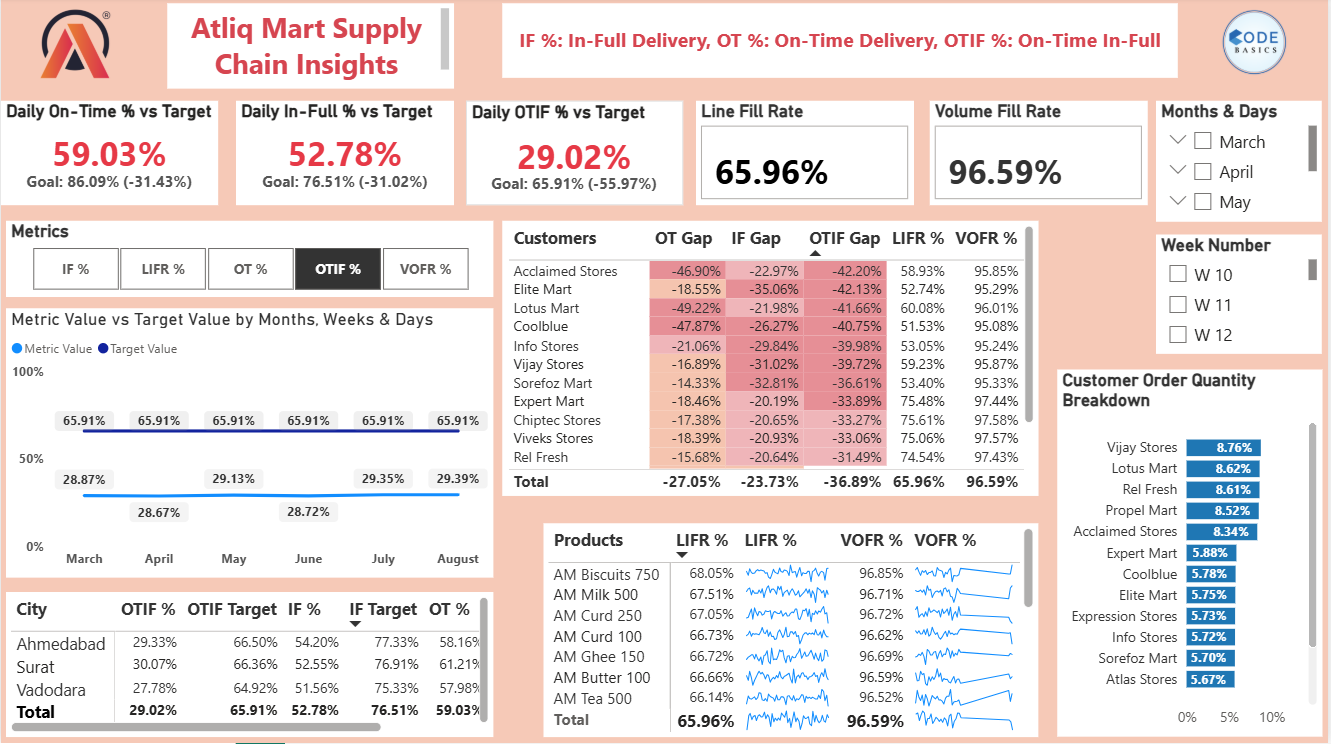

The page's visual inventory and layout, read from the dashboard file:
{"tool":"powerbi","page":{"name":"Atliq Mart FMCG Suppy Chain Report","canvas":[1280,720],"ordinal":0},"visuals":[{"type":"kpi","title":"Daily On-Time % vs Target","fields":{"Indicator":["All Measures.OT%"],"Goal":["All Measures.OT Target"],"TrendLine":["dim_date.mmm_yy.Variation.Date Hierarchy.Year"]},"box":[0,99.6,209.2,101],"z":0},{"type":"kpi","title":"Daily In-Full % vs Target","fields":{"Indicator":["All Measures.IF %"],"Goal":["All Measures.IF Target"],"TrendLine":["dim_date.date.Variation.Date Hierarchy.Year"]},"box":[226.5,99.6,210.6,101],"z":1000},{"type":"kpi","title":"Daily OTIF % vs Target","fields":{"Goal":["All Measures.OTIF Target"],"Indicator":["All Measures.OTIF %"],"TrendLine":["dim_date.date.Variation.Date Hierarchy.Year"]},"box":[448.7,99.6,209.2,101],"z":2000},{"type":"pivotTable","fields":{"Rows":["dim_customers.city"],"Values":["All Measures.OTIF %","All Measures.OTIF Target","All Measures.IF %","All Measures.IF Target","All Measures.OT%","All Measures.OT Target"]},"box":[4.8,574.3,470.5,139.9],"z":3000},{"type":"tableEx","fields":{"Values":["dim_customers.customer_name","All Measures.OT Gap","All Measures.IF Gap","All Measures.OTIF Gap","All Measures.LIFR %","All Measures.VOFR %"]},"box":[483.3,216.4,518,265.5],"z":4000},{"type":"cardVisual","title":"Line Fill Rate","fields":{"Data":["All Measures.LIFR %"]},"box":[670.9,99.6,210.6,101],"z":5000},{"type":"cardVisual","title":"Volume Fill Rate","fields":{"Data":["All Measures.VOFR %"]},"box":[896,99.6,210.6,101],"z":6000},{"type":"pivotTable","fields":{"Values":["All Measures.LIFR %","SparklineData(All Measures.LIFR %_[dim_date.date])","All Measures.VOFR %","SparklineData(All Measures.VOFR %_[dim_date.date.Variation.Date Hierarchy.Day])"],"Rows":["dim_products.product_name"]},"box":[523.7,507.9,477.6,206.3],"z":7000},{"type":"slicer","title":"Metrics","fields":{"Values":["MetricSelector.MetricName"]},"box":[4.3,216.4,470.3,73.6],"z":8000},{"type":"lineChart","title":"Metric Value vs Target Value by Months, Weeks & Days","fields":{"Y":["MetricSelector.SelectedMetricValue","MetricSelector.SelectedTargetValue"],"Category":["dim_date.date.Variation.Date Hierarchy.Year","dim_date.date.Variation.Date Hierarchy.Quarter","dim_date.date.Variation.Date Hierarchy.Month","dim_date.date.Variation.Date Hierarchy.Day"]},"box":[4.3,300.1,470.3,259.7],"z":9000},{"type":"image","box":[4.3,5.8,135.6,77.9],"z":10000},{"type":"textbox","box":[160.1,5.8,277,82.2],"z":11000},{"type":"slicer","title":"Week Number","fields":{"Values":["dim_date.week_no"]},"box":[1115.3,229.4,160.1,115.4],"z":12000},{"type":"slicer","title":"Months & Days","fields":{"Values":["dim_date.mmm_yy.Variation.Date Hierarchy.Month","dim_date.mmm_yy.Variation.Date Hierarchy.Day"]},"box":[1115.3,99.6,160.1,116.9],"z":13000},{"type":"clusteredBarChart","title":"Customer Order Quantity Breakdown","fields":{"Category":["dim_customers.customer_name"],"Y":["All Measures.Order Quantity"]},"box":[1019.4,359.5,255.8,354.7],"z":14000},{"type":"image","box":[1145,5.8,129.8,75],"z":15000},{"type":"textbox","box":[483.3,5.8,652.1,72.1],"z":16000}]}

Visuals, with their boxes in screenshot pixels (x1, y1, x2, y2), scaled from the page's 1280x720 canvas onto the 1331x744 screenshot:
"Daily On-Time % vs Target" kpi: 0, 103, 218, 207
"Daily In-Full % vs Target" kpi: 236, 103, 455, 207
"Daily OTIF % vs Target" kpi: 467, 103, 684, 207
pivotTable - dim_customers.city x All Measures.OTIF %: 5, 593, 494, 738
tableEx - dim_customers.customer_name x All Measures.OT Gap: 503, 224, 1041, 498
"Line Fill Rate" cardVisual: 698, 103, 917, 207
"Volume Fill Rate" cardVisual: 932, 103, 1151, 207
pivotTable - All Measures.LIFR % x SparklineData(All Measures.LIFR %_[dim_date.date]): 545, 525, 1041, 738
"Metrics" slicer: 4, 224, 494, 300
"Metric Value vs Target Value by Months, Weeks & Days" lineChart: 4, 310, 494, 578
image: 4, 6, 145, 86
textbox: 166, 6, 455, 91
"Week Number" slicer: 1160, 237, 1326, 356
"Months & Days" slicer: 1160, 103, 1326, 224
"Customer Order Quantity Breakdown" clusteredBarChart: 1060, 371, 1326, 738
image: 1191, 6, 1326, 83
textbox: 503, 6, 1181, 80
